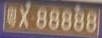X: (19, 3, 30, 28)
